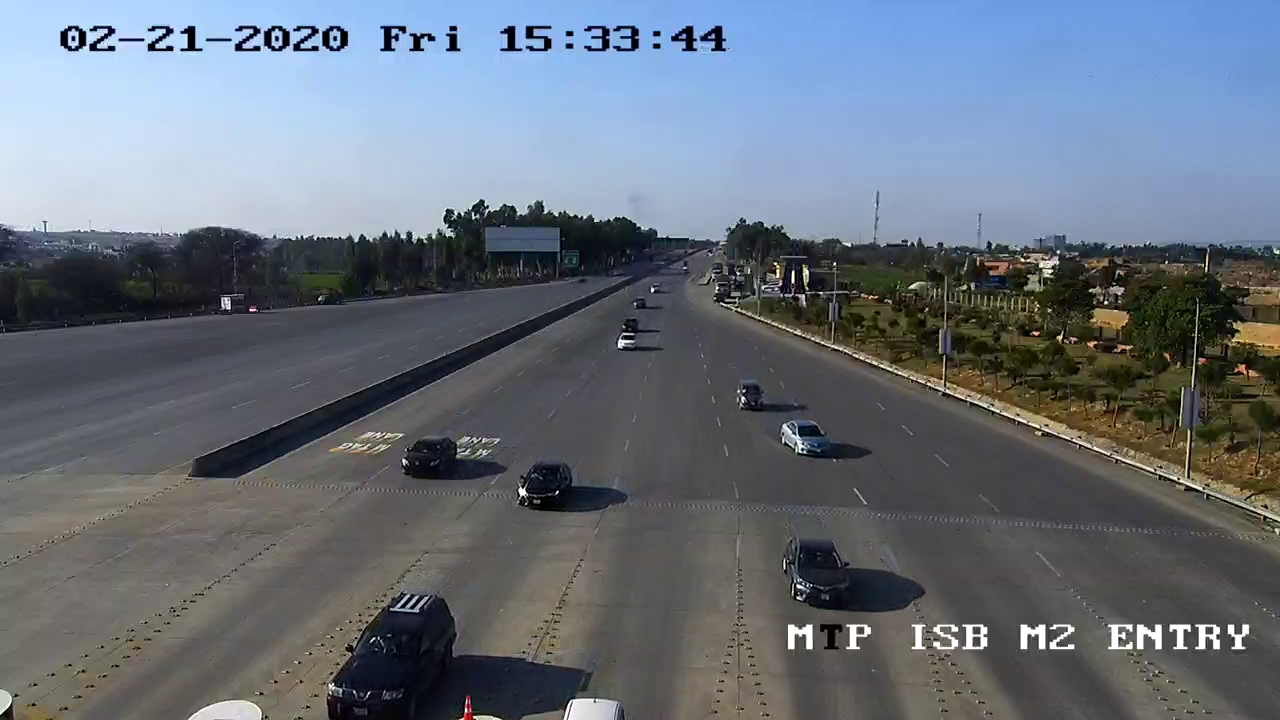f1: (319, 589, 468, 720), (772, 523, 865, 621), (506, 452, 586, 518), (389, 431, 472, 492), (770, 415, 840, 464)
